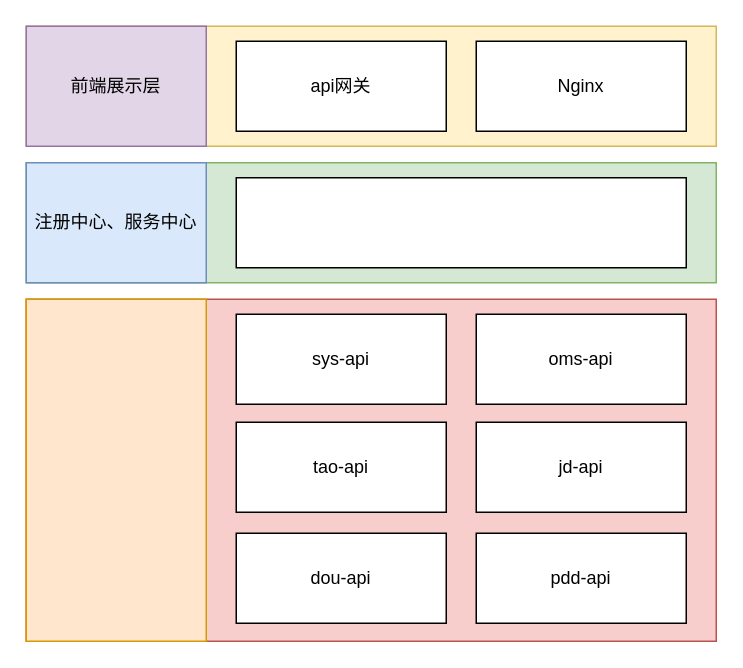
This 743x668 diagram has some shape labels left out. Each missing label, with the centre of its shape:
"Nacos" belongs at point (460, 222).
"微服务层" belongs at point (115, 469).
